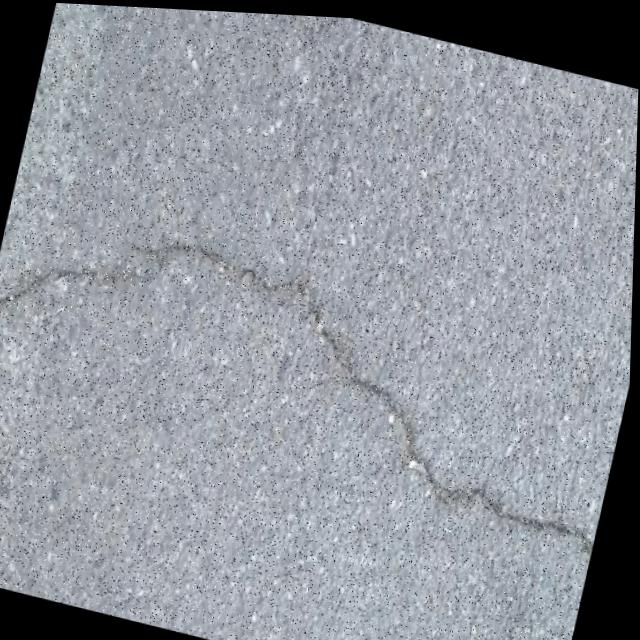Crack: (0, 192, 636, 570)
